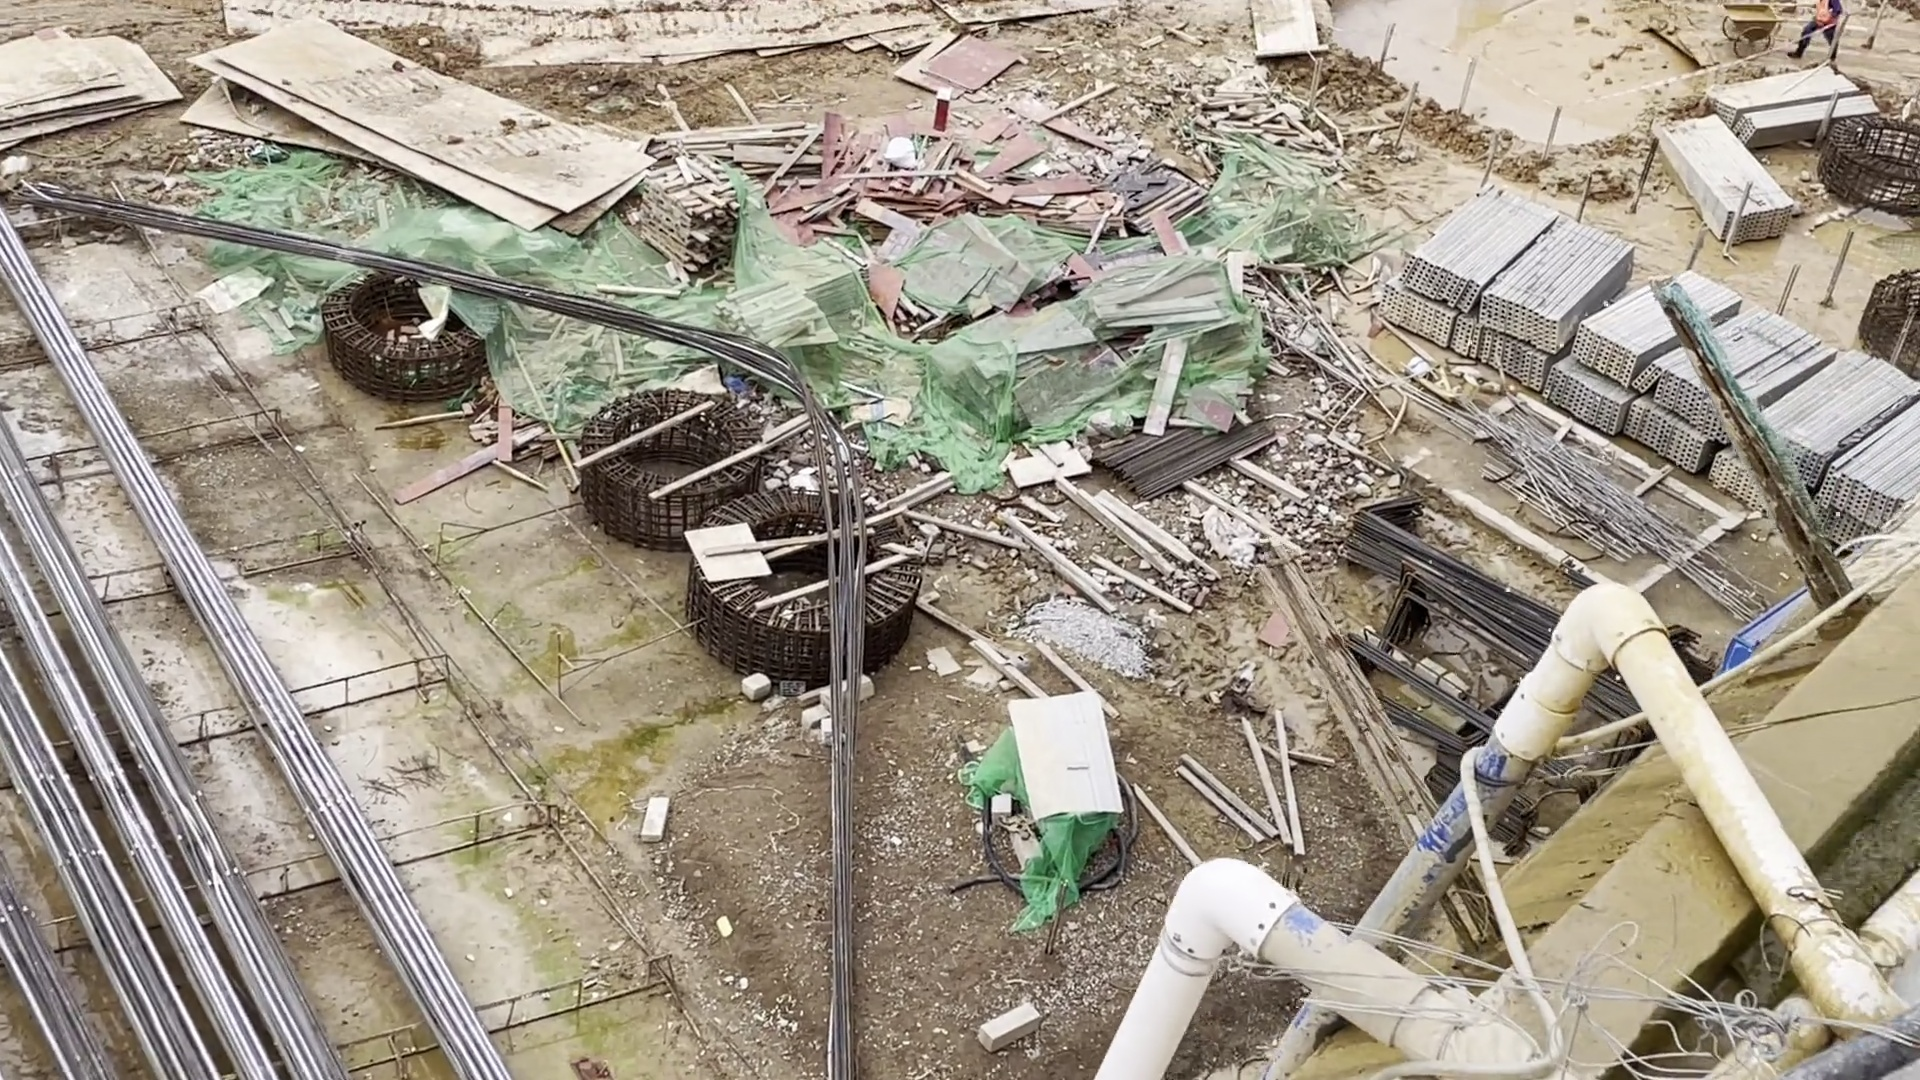board: (805, 111, 1137, 213)
handcart: (1721, 9, 1783, 63)
person: (1781, 1, 1858, 71)
rebar: (1, 211, 329, 1080)
scaffold: (1389, 192, 1920, 547), (1661, 63, 1885, 247)
vest: (1810, 1, 1839, 33)
